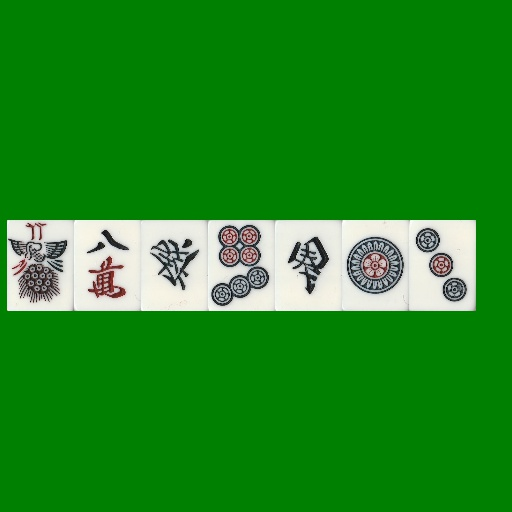1p: (342, 220, 409, 311)
1s: (7, 220, 74, 311)
3p: (409, 220, 476, 311)
7p: (208, 220, 275, 311)
8m: (74, 220, 141, 311)
hatsu: (141, 220, 208, 311)
south: (275, 220, 342, 311)
